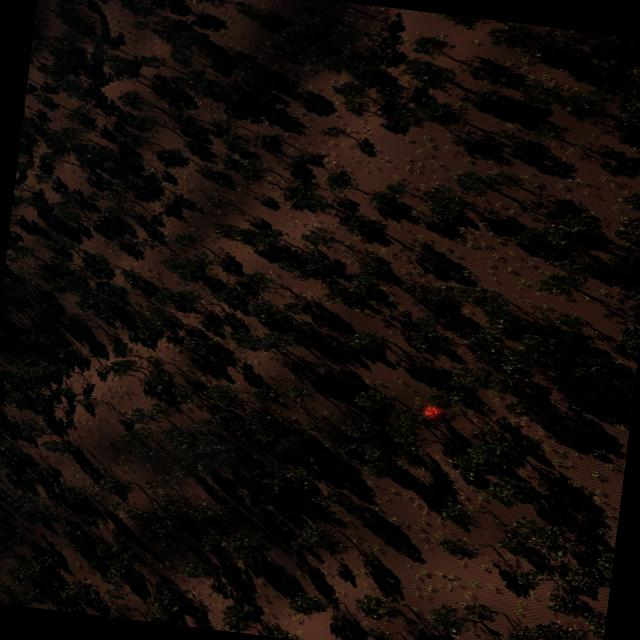fire: (424, 402, 445, 418)
smoke: (180, 435, 255, 477), (267, 429, 308, 460)
